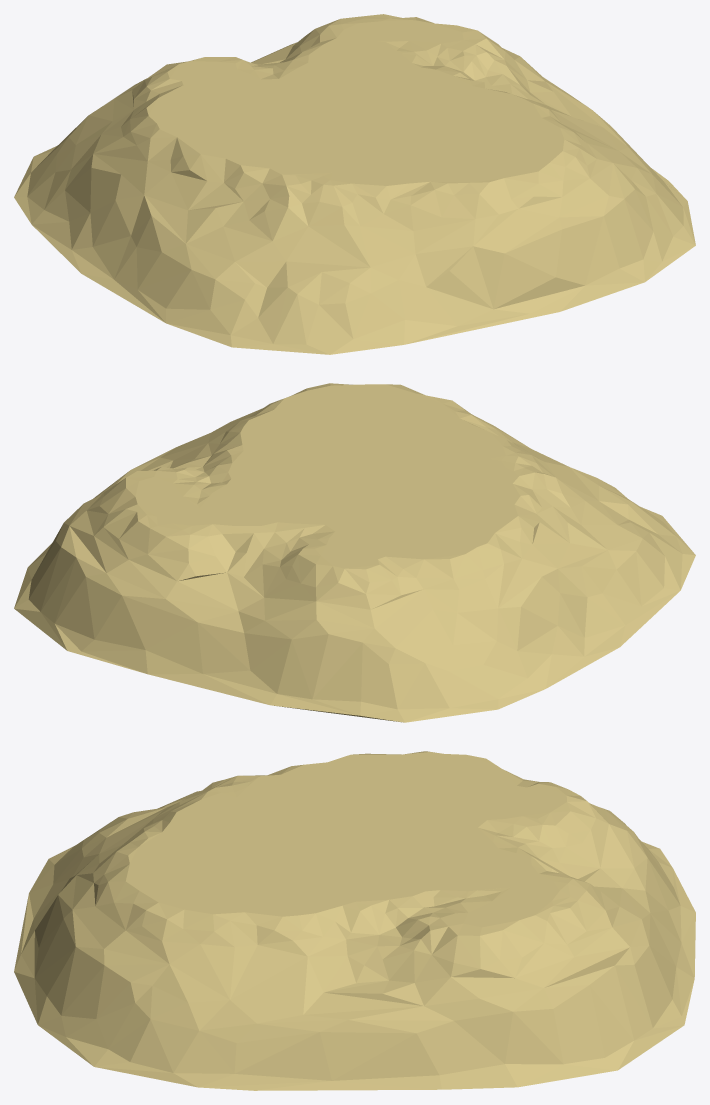
Rendered from TerrainSand_5.fbx.
3 views of the same model, one above another, from view 1: azimuth 30°, elevation 25°; view 2: azimuth 150°, elevation 25°; view 3: azimuth 270°, elevation 25° (orthographic). The views are drawn at different scales.
Parts seen in each view (by area): view 1: TerrainSand_5; view 2: TerrainSand_5; view 3: TerrainSand_5.
Part boxes in pixels (left/top/right/bottom): TerrainSand_5: left=14, top=14, right=695, bottom=354; TerrainSand_5: left=14, top=383, right=695, bottom=722; TerrainSand_5: left=14, top=751, right=695, bottom=1090.
Size of the model in its own units: 1666 by 294 by 1668.
